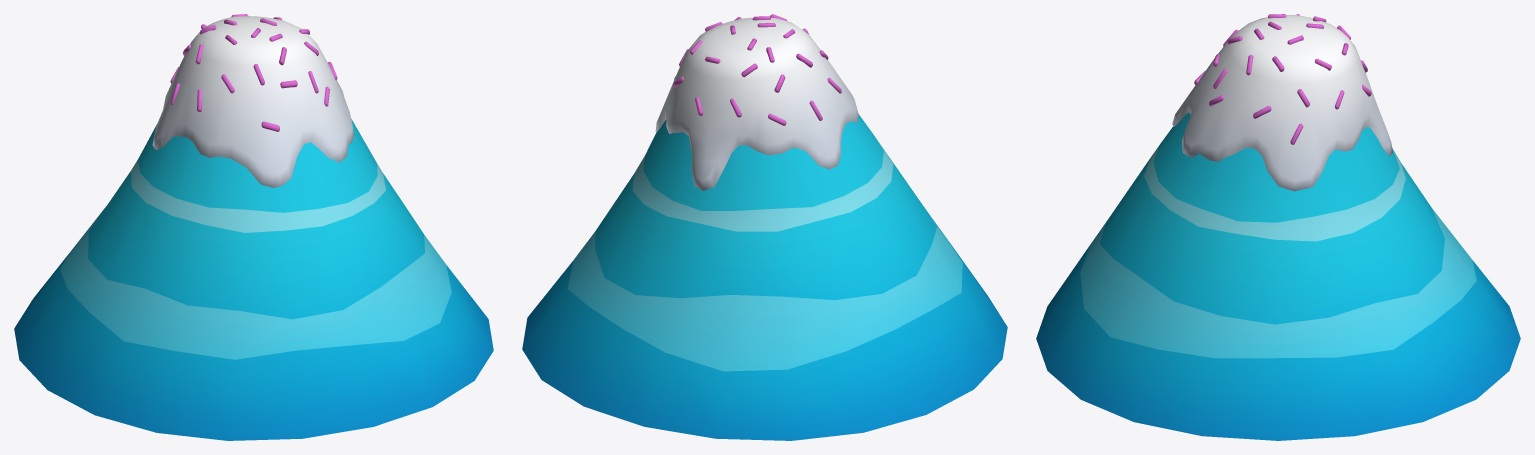
Rendered from Mountain_05.glb.
3 views of the same model, side by side, from view 1: azimuth 30°, elevation 25°; view 2: azimuth 150°, elevation 25°; view 3: azimuth 270°, elevation 25° (orthographic).
Parts seen in each view (by area): view 1: Mountain_05; view 2: Mountain_05; view 3: Mountain_05.
Part boxes in pixels (<box>): Mountain_05: <box>14,14,493,440</box>; Mountain_05: <box>522,14,1007,440</box>; Mountain_05: <box>1036,14,1520,440</box>.
Size of the model in its own units: 39.42 by 28.24 by 39.43.
1 material, 1 textured.
